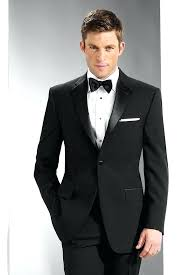F_M_suit jacket: (26, 64, 171, 258)
